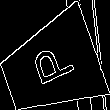P_W: (25, 40, 77, 93)
